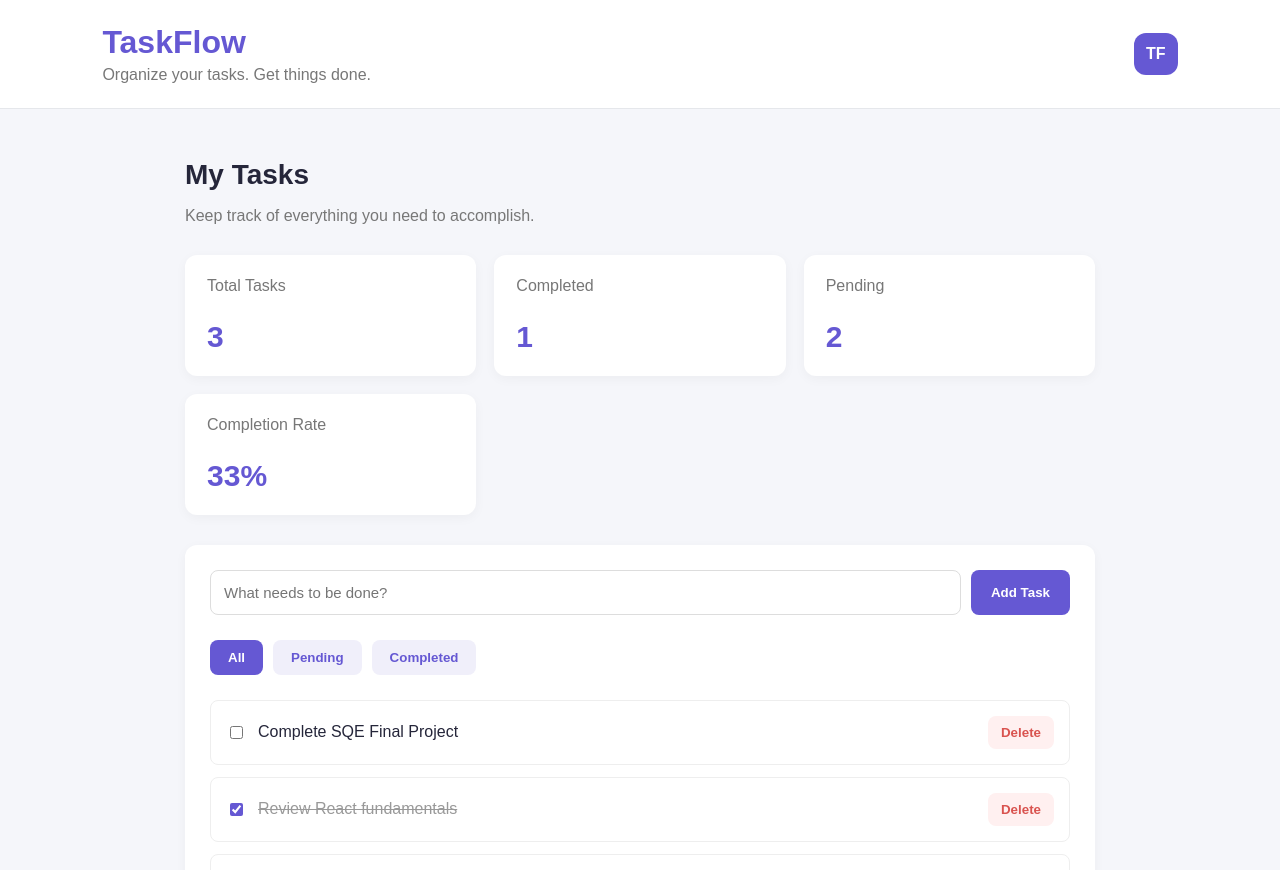
Scenario: TaskFlow Application › adding tasks › trims whitespace around a new task title
The width and height of the screenshot is (1280, 870).
In the field with placeholder "What needs to be done?": (586, 592) [210,570,961,615], type "   Write report   "
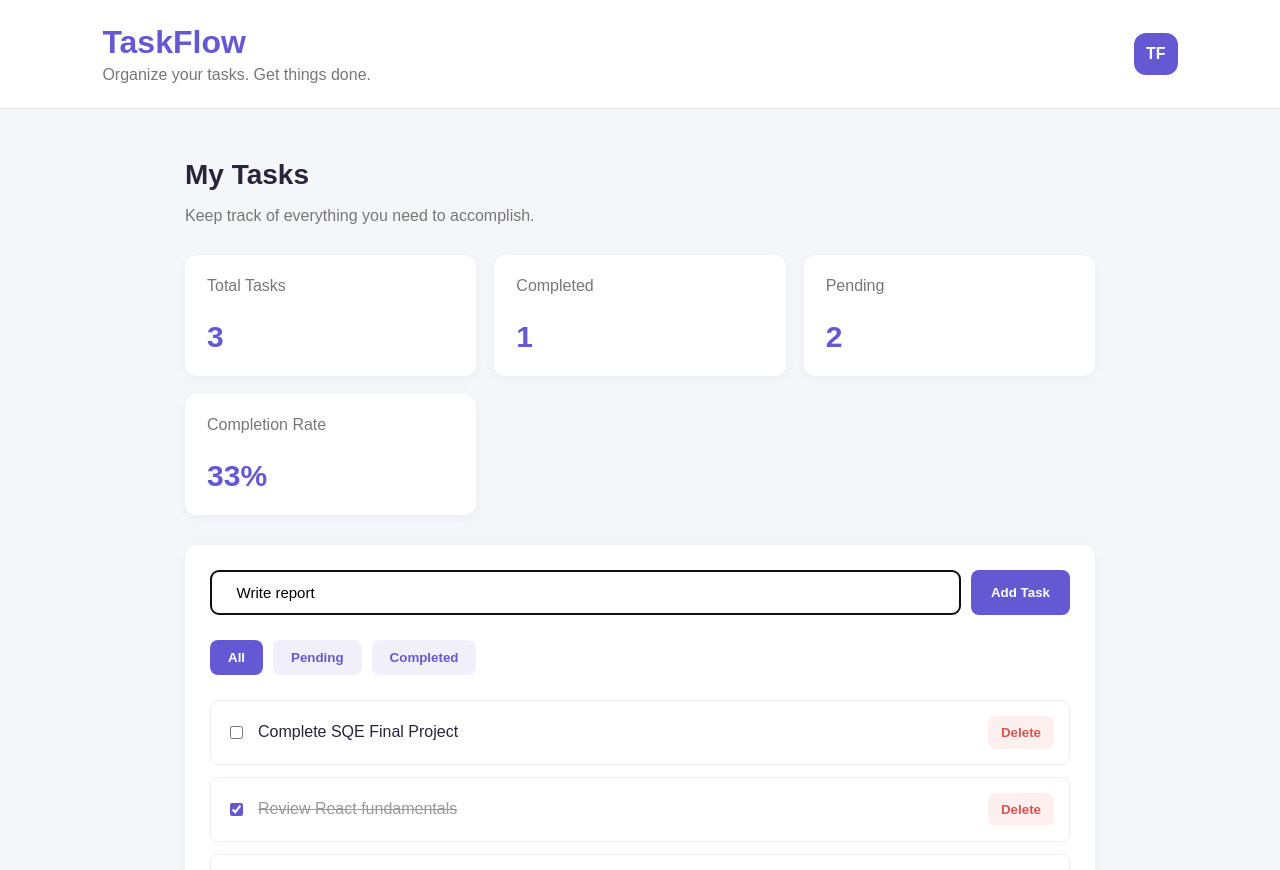
Click the button "Add Task": (1020, 592) [971,570,1070,615]
(page scrolled)
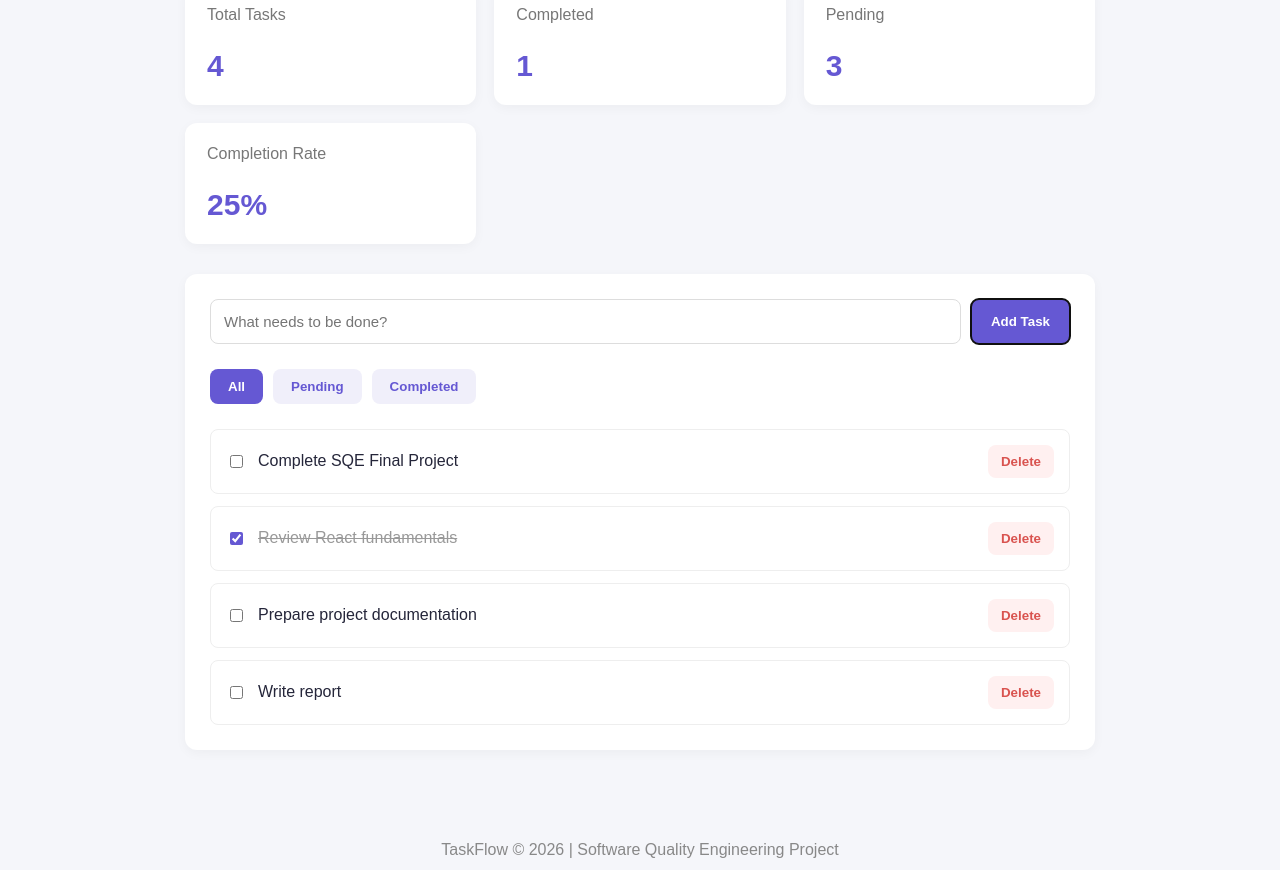
Expected: the checkbox labelled "Write report" is shown, [230,686,243,699]
